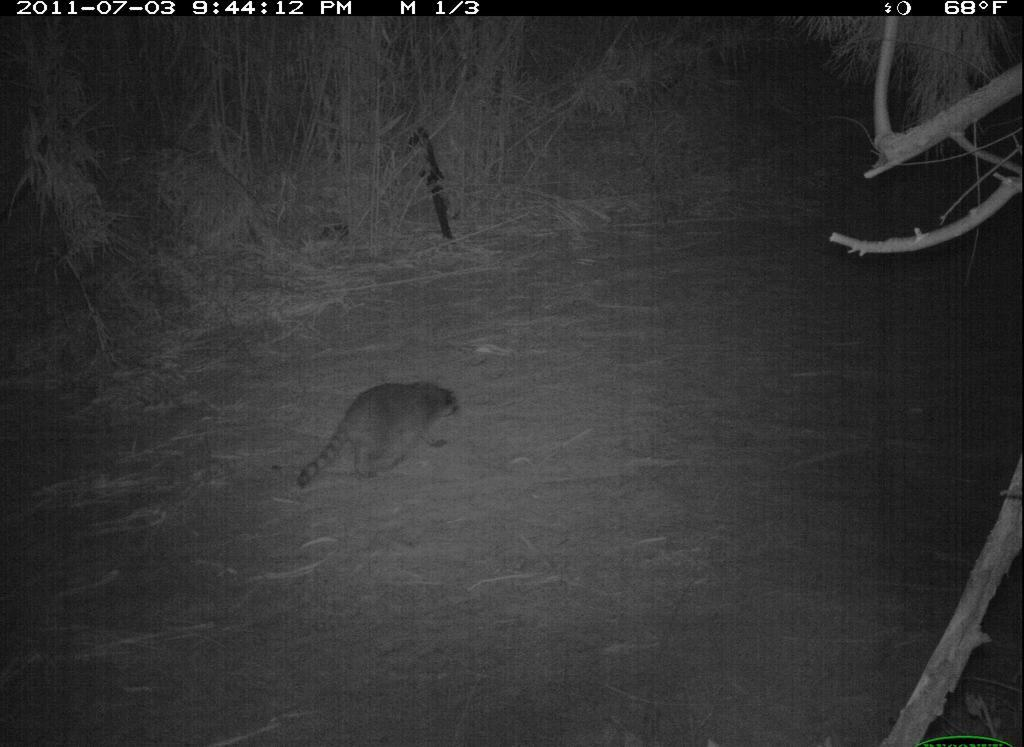raccoon: (283, 365, 479, 498)
